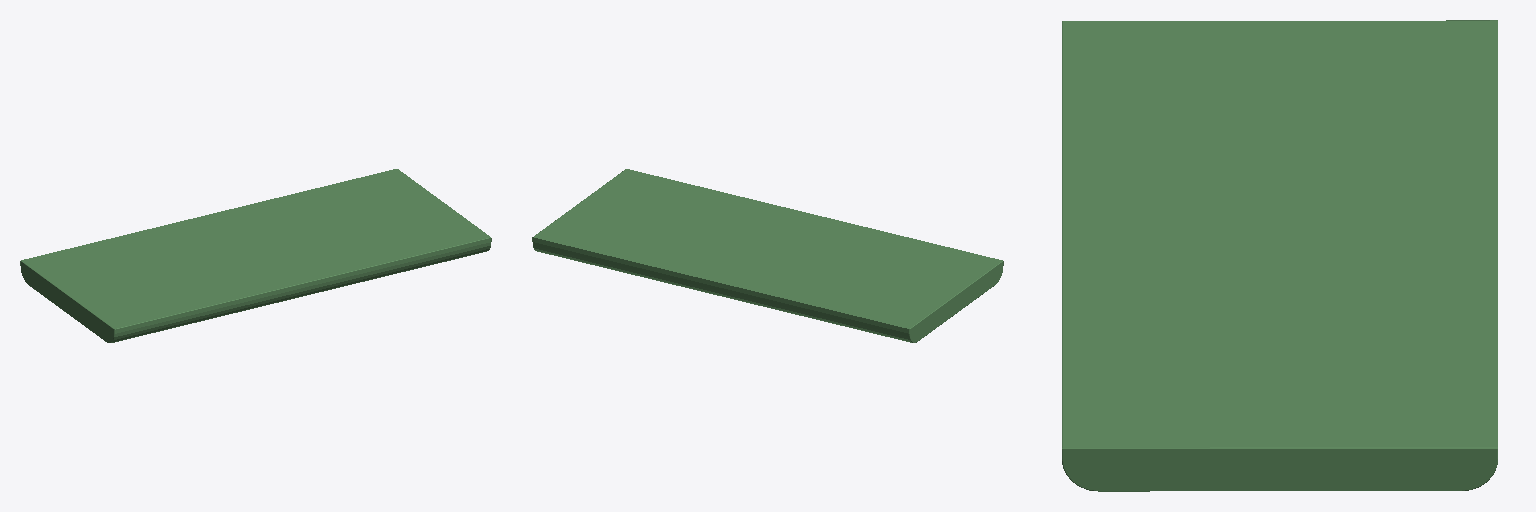
robot.urdf — fridge:
<?xml version="1.0" ?>
<robot name="fridge">
	<link name="base"/>
	<link name="link_0">
		<visual name="out-frame">
			<origin xyz="0 0 0"/>
			<geometry>
				<mesh filename="texture_dae/frame.dae" scale="1 1 1"/>
			</geometry>
		</visual>
		<collision>
			<origin xyz="0 0 0"/>
			<geometry>
				<mesh filename="texture_dae/frame.dae" scale="1 1 1"/>
			</geometry>
		</collision>
	</link>
	<joint name="joint_0" type="fixed">
		<origin rpy="1.570796326794897 0 -1.570796326794897" xyz="0 0 0"/>
		<child link="link_0"/>
		<parent link="base"/>
	</joint>
	<link name="link_1">
		<visual name="surf-board">
			<origin xyz="0.5031558534529236 -0.5106691273756496 0"/>
			<geometry>
				<mesh filename="texture_dae/board.dae" scale="1 1 1"/>
			</geometry>
		</visual>
		<collision>
			<origin xyz="0.5031558534529236 -0.5106691273756496 0"/>
			<geometry>
				<mesh filename="texture_dae/board.dae" scale="1 1 1"/>
			</geometry>
		</collision>
	</link>
	<joint name="joint_1" type="revolute">
		<origin xyz="-0.5031558534529236 0.5106691273756496 0"/>
		<axis xyz="0 -1 0"/>
		<child link="link_1"/>
		<parent link="link_0"/>
		<limit lower="0" upper="1.5079644737231006"/>
	</joint>
	<link name="link_2">
		<visual name="handle">
			<origin xyz="0 0 0"/>
			<geometry>
				<mesh filename="texture_dae/9960021.dae" scale="1 1 1"/>
			</geometry>
		</visual>
		<collision>
			<origin xyz="0 0 0"/>
			<geometry>
				<mesh filename="texture_dae/9960021.dae" scale="1 1 1"/>
			</geometry>
		</collision>
	</link>
	<joint name="joint_2" type="revolute">
		<origin xyz="0.5031558534529236 -0.5106691273756496 0.03281084317751692"/>
		<child link="link_2"/>
		<parent link="link_1"/>
		<axis xyz="0 0 1"/>
		<limit lower="0" upper="1.5079644737231006"/>
	</joint>
</robot>

--- What the picture shows (computed from the rendered views, not written in the file) ---
The picture shows the robot from 3 angles, left to right: view 1: azimuth 30°, elevation 25°; view 2: azimuth 150°, elevation 25°; view 3: azimuth 270°, elevation 25°; orthographic projection.
Model fridge with 4 links and 3 joints (2 revolute, 1 fixed), rooted at base, posed every joint at zero.
Visible links, largest first — view 1: link_1; view 2: link_1; view 3: link_1.
Link boxes in pixels (box(x1,y1,x2,y2)): link_1: box(20, 169, 491, 342); link_1: box(532, 169, 1003, 342); link_1: box(1062, 20, 1497, 491).
Bounding box of the posed robot: 1.37 × 0.5909 × 0.066 m (x, y, z).
Meshes: 3 distinct files referenced, 1 mesh visuals loaded (1 Collada DAE); not drawn: 1 (reference not matched to a file when rendering), 1 (file found but could not be loaded).